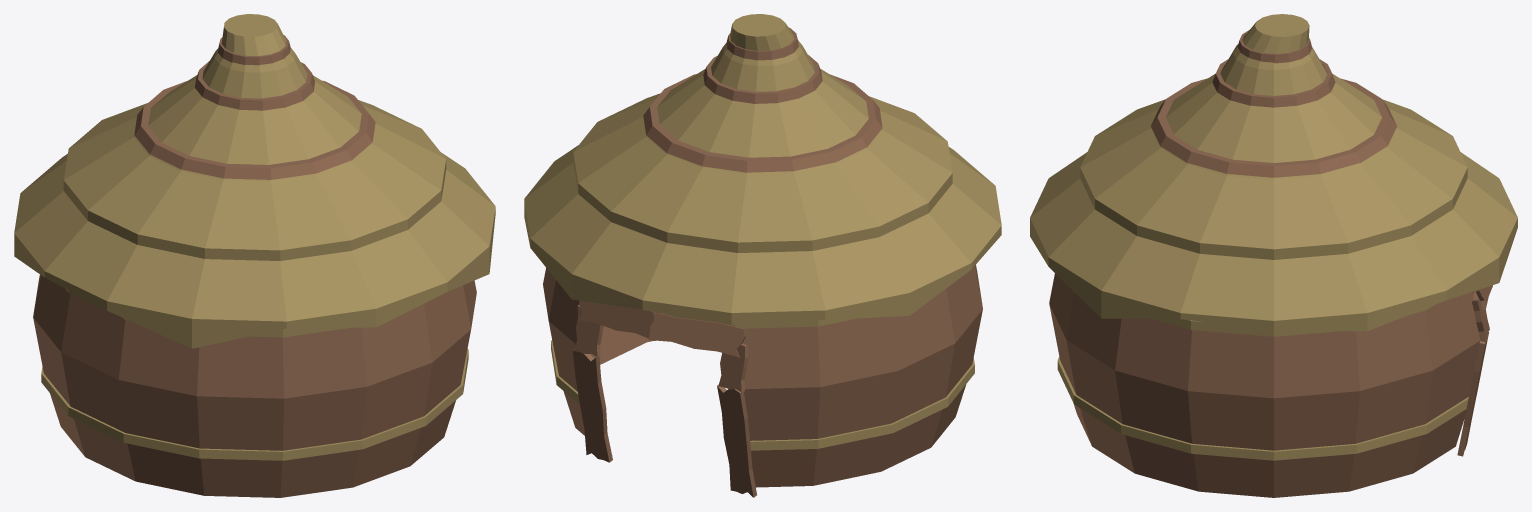
The model's file is Hut.fbx.
3 views of the same model, side by side, from view 1: azimuth 30°, elevation 25°; view 2: azimuth 150°, elevation 25°; view 3: azimuth 270°, elevation 25° (orthographic).
Parts seen in each view (by area): view 1: Cylinder.006; view 2: Cylinder.006; view 3: Cylinder.006.
Boxes of the visible parts, x1=… form: Cylinder.006: x1=14, y1=14, x2=495, y2=497; Cylinder.006: x1=524, y1=14, x2=1001, y2=497; Cylinder.006: x1=1030, y1=14, x2=1517, y2=497.
Bounding box in the file's own units: 496 × 496 × 437.
